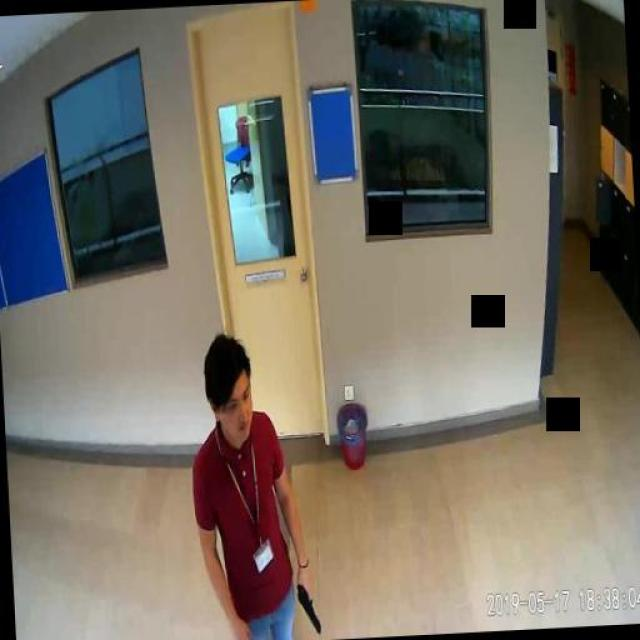gun: (295, 572, 320, 632)
